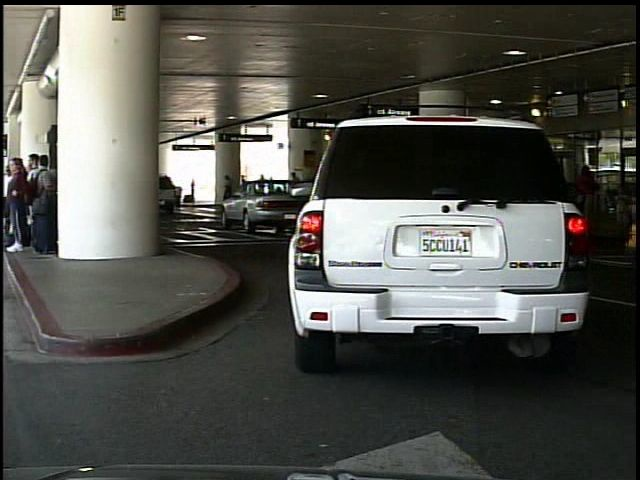person: (574, 160, 604, 246), (224, 172, 235, 197), (190, 177, 198, 204)
